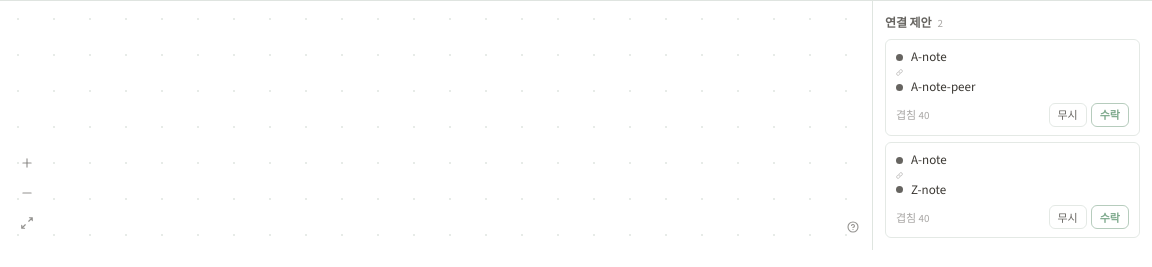
Test case: GraphTab user boundaries › a suggestions read that started before the click does not bring the accepted card back
The image size is (1152, 267).
Click the button "수락" below "Z-note" at (1110, 217), box [1091,205,1129,229]
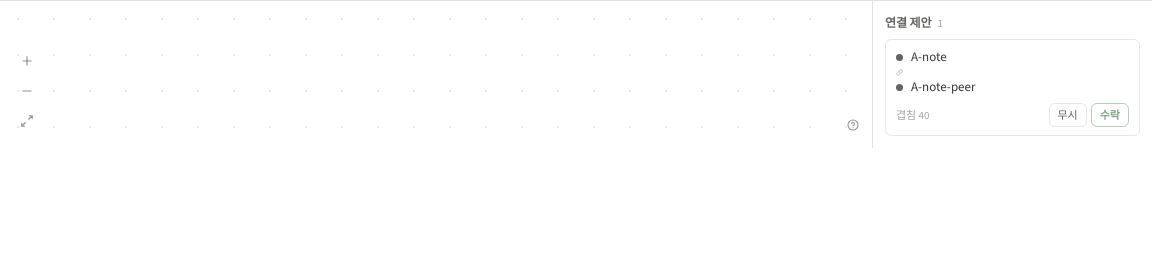
Click the button "수락" at (1110, 115), box [1091,103,1129,127]
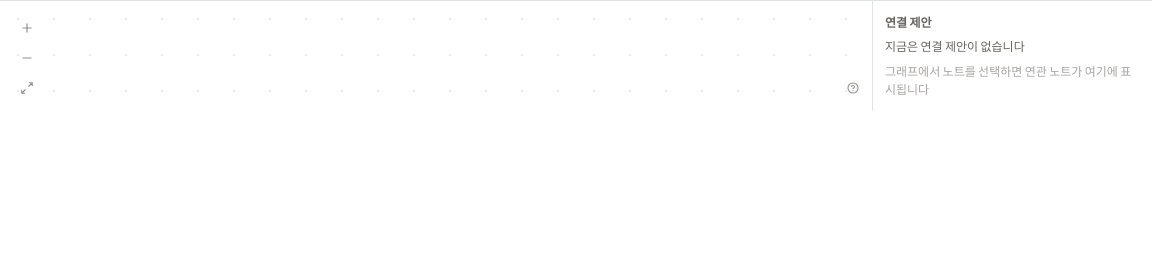
Expected: the text "지금은 연결 제안이 없습니다" is shown, [885,39,1025,55]
Expected: the list item with test id "graph-suggestion-s1" is gone
